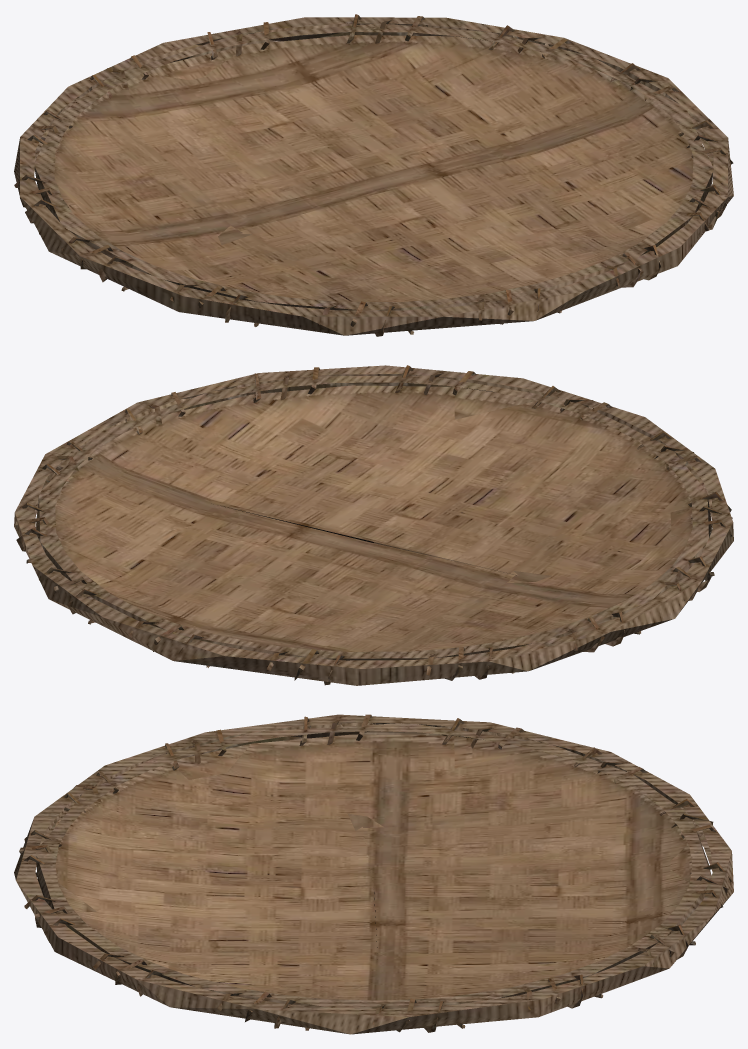
The model's file is kradong.glb.
3 views of the same model, one above another, from view 1: azimuth 30°, elevation 25°; view 2: azimuth 150°, elevation 25°; view 3: azimuth 270°, elevation 25° (orthographic).
Visible parts, largest first — view 1: kradong; view 2: kradong; view 3: kradong.
Boxes of the visible parts, box(x1,y1,x2,y2) form: kradong: box(14, 14, 733, 336); kradong: box(14, 365, 733, 685); kradong: box(14, 714, 733, 1034).
Size of the model in its own units: 0.7123 by 0.0399 by 0.7123.
1 material, 1 textured.
